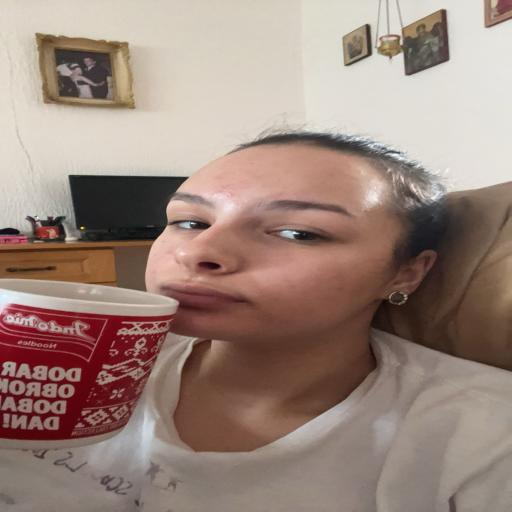marija: (145, 142, 386, 338)
